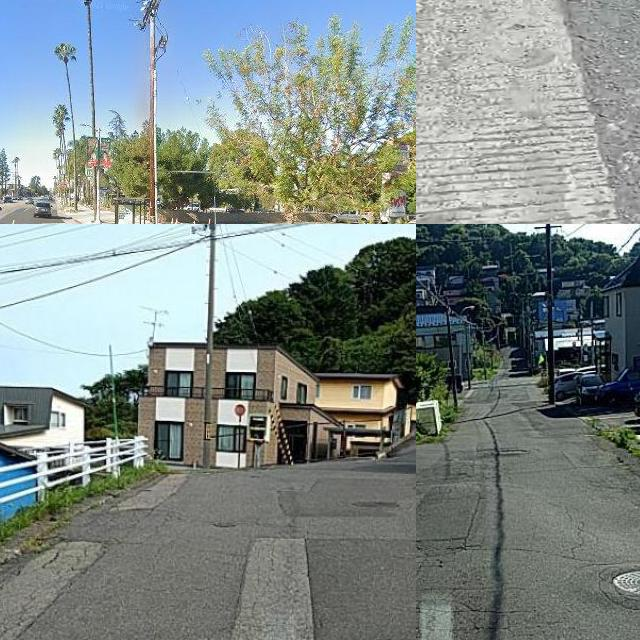Lubang: (613, 568, 640, 596)
Sambungan: (416, 0, 619, 224), (228, 540, 316, 640)
